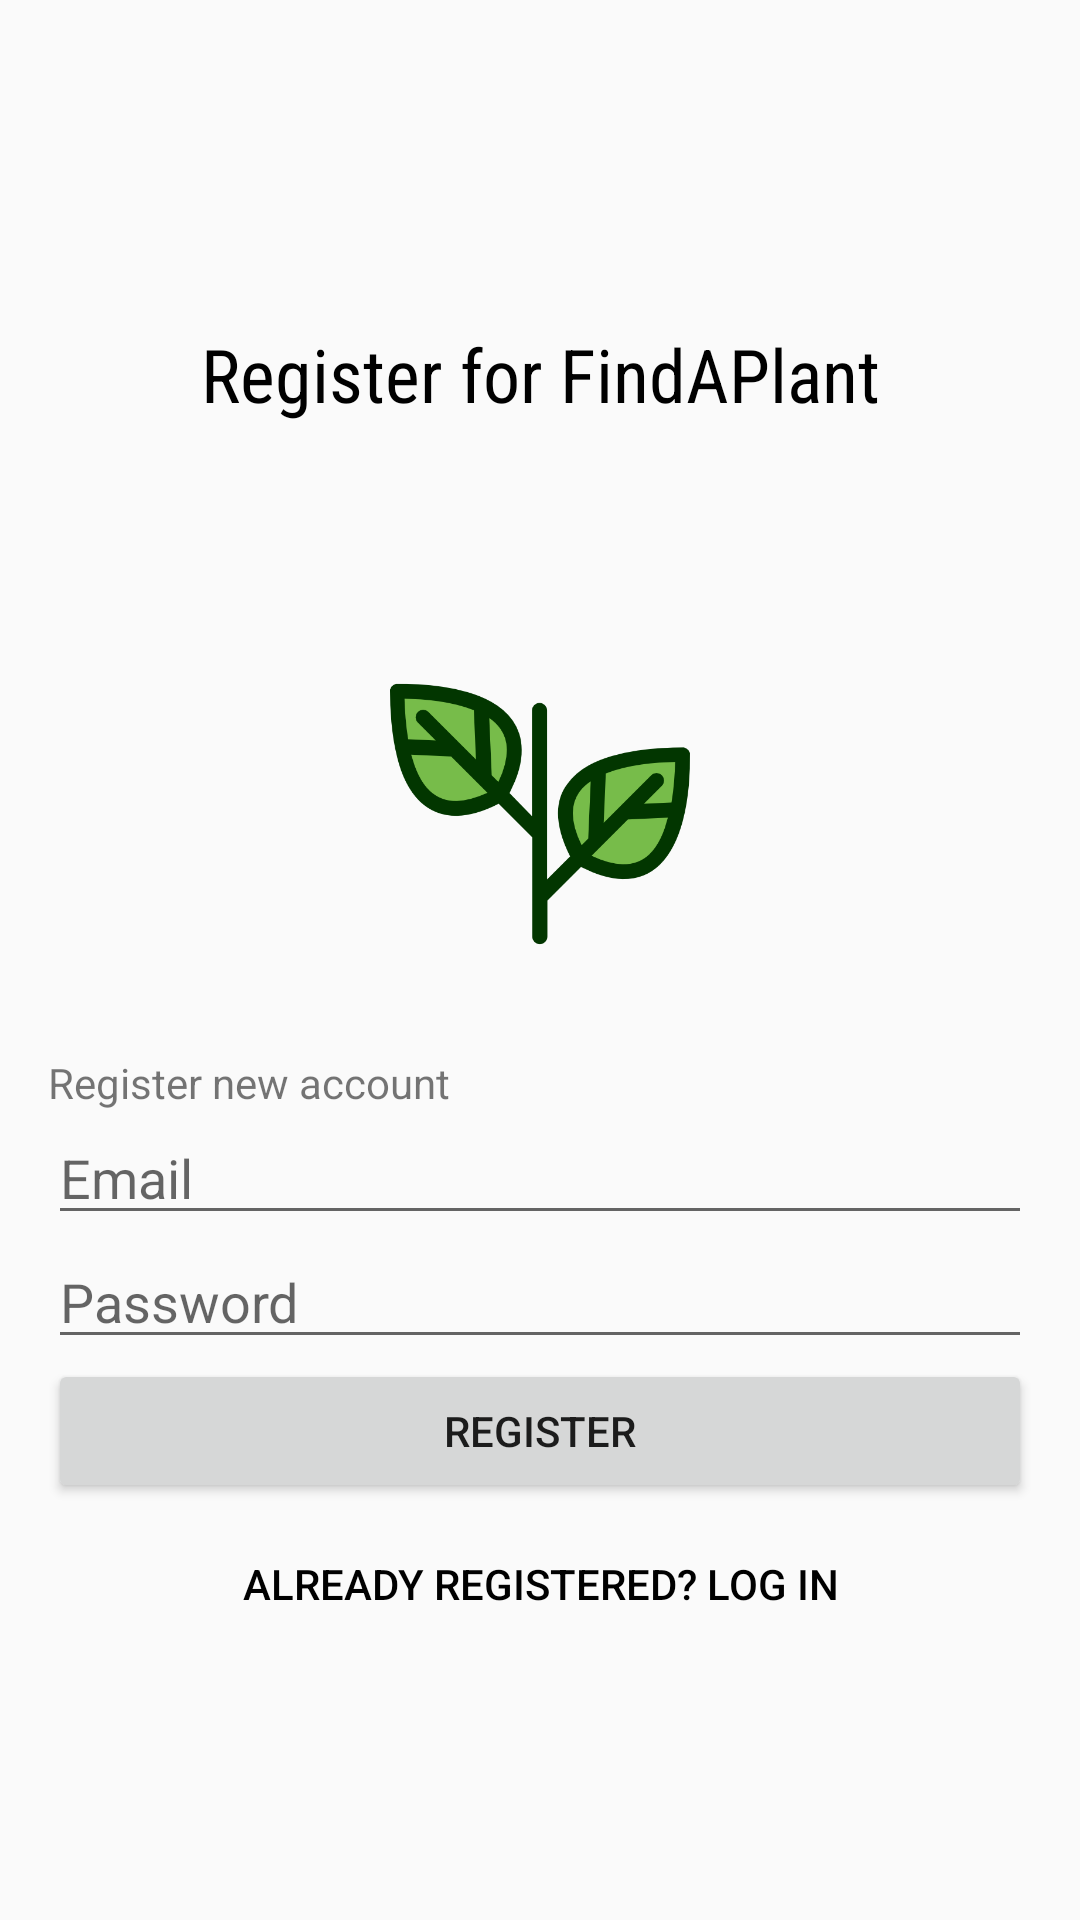

Icon click points for this 1080*1920 phone screenshot, format (x,y):
leaf: (540,814)
